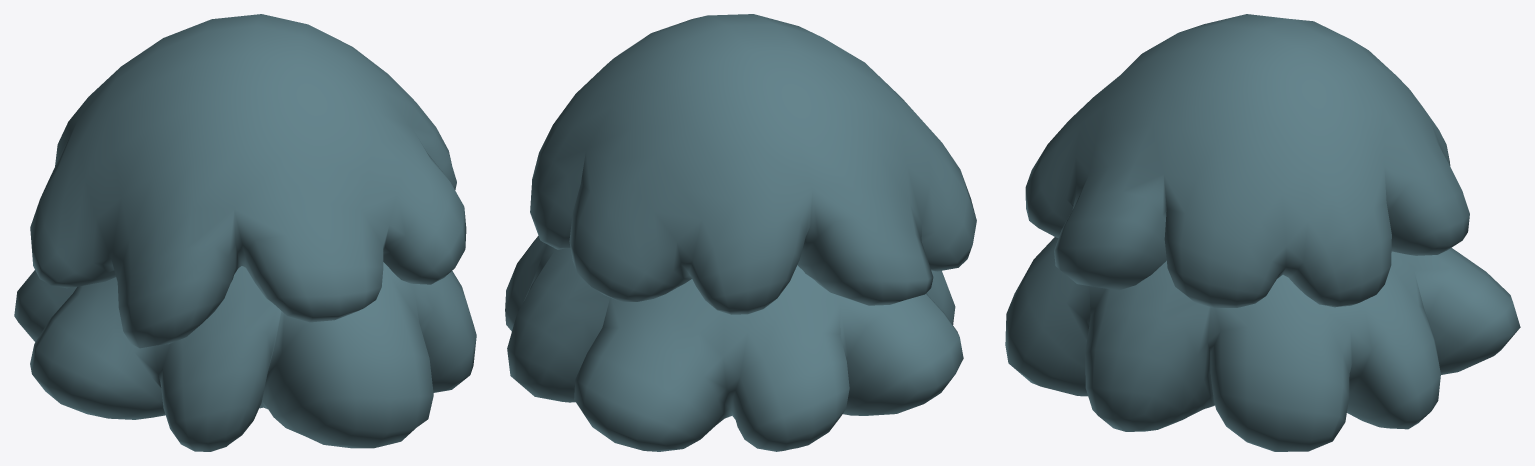
File: Bush_B_02.fbx
3 renders of one model, left to right at view 1: azimuth 30°, elevation 25°; view 2: azimuth 150°, elevation 25°; view 3: azimuth 270°, elevation 25°, orthographic.
Parts seen in each view (by area): view 1: Bush_B_02_LOD0; view 2: Bush_B_02_LOD0; view 3: Bush_B_02_LOD0.
Boxes of the visible parts, x1,y1,x2,y2 form: Bush_B_02_LOD0: (14,14,476,451); Bush_B_02_LOD0: (505,14,976,451); Bush_B_02_LOD0: (1005,14,1520,451).
Size of what is drawn, in the model's own units: 400 by 331 by 433.
